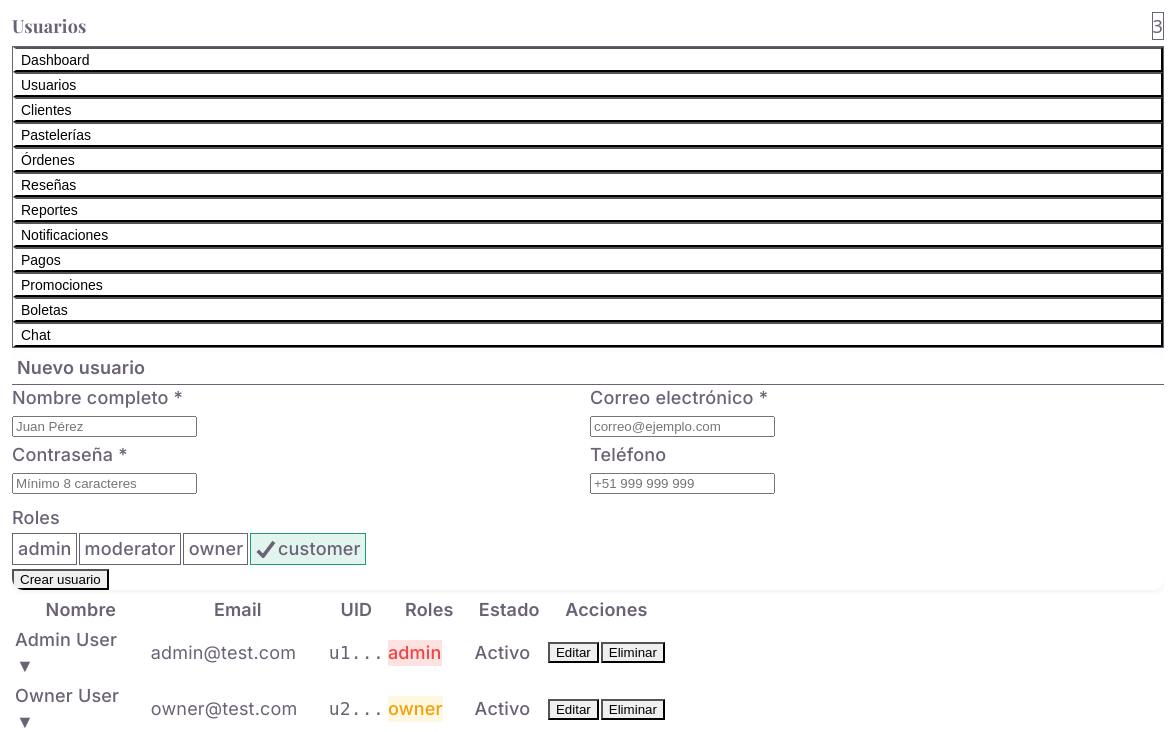
Test case: AdminUsers › abre formulario de edicion al hacer click en Editar
Expected: the text "Admin User" is shown, [15,629,117,650]
Step 1. Click the button "Editar" in the row of "Admin User" → point(573, 653), box [548,642,599,663]
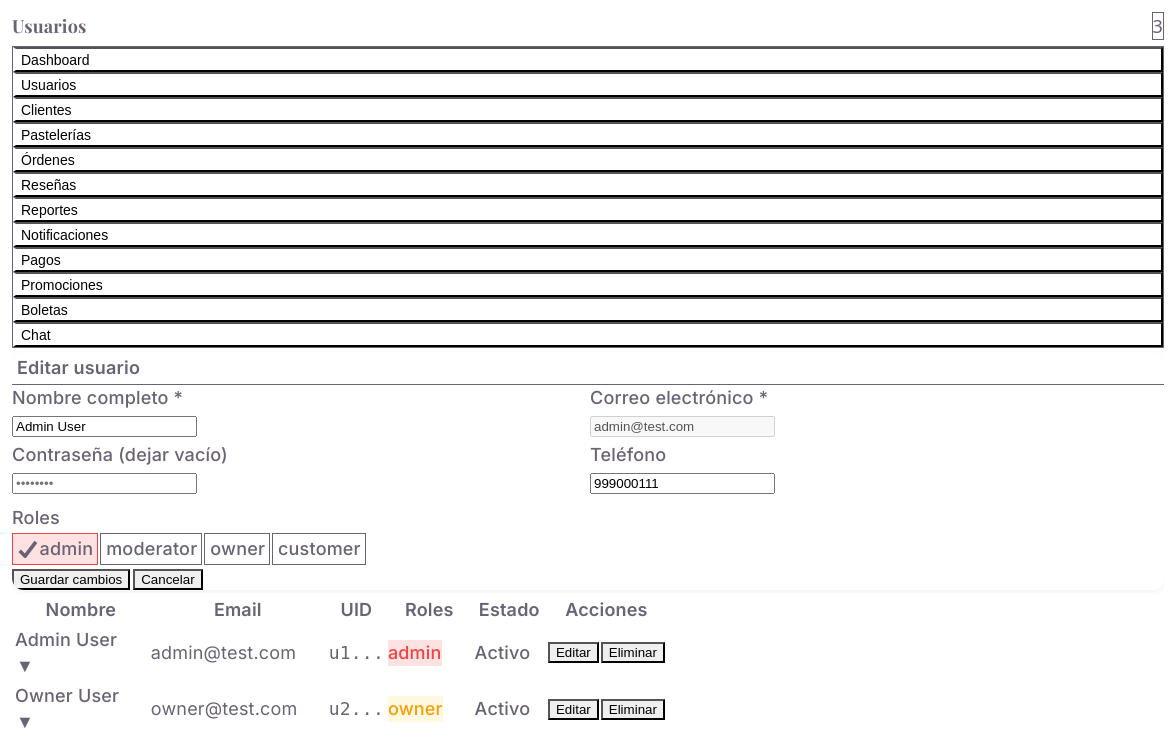
Expected: the text "Editar usuario" is shown, [17,355,140,381]
Expected: the button "Guardar cambios" is shown, [12,569,130,590]
Expected: the button "Cancelar" is shown, [133,569,202,590]
